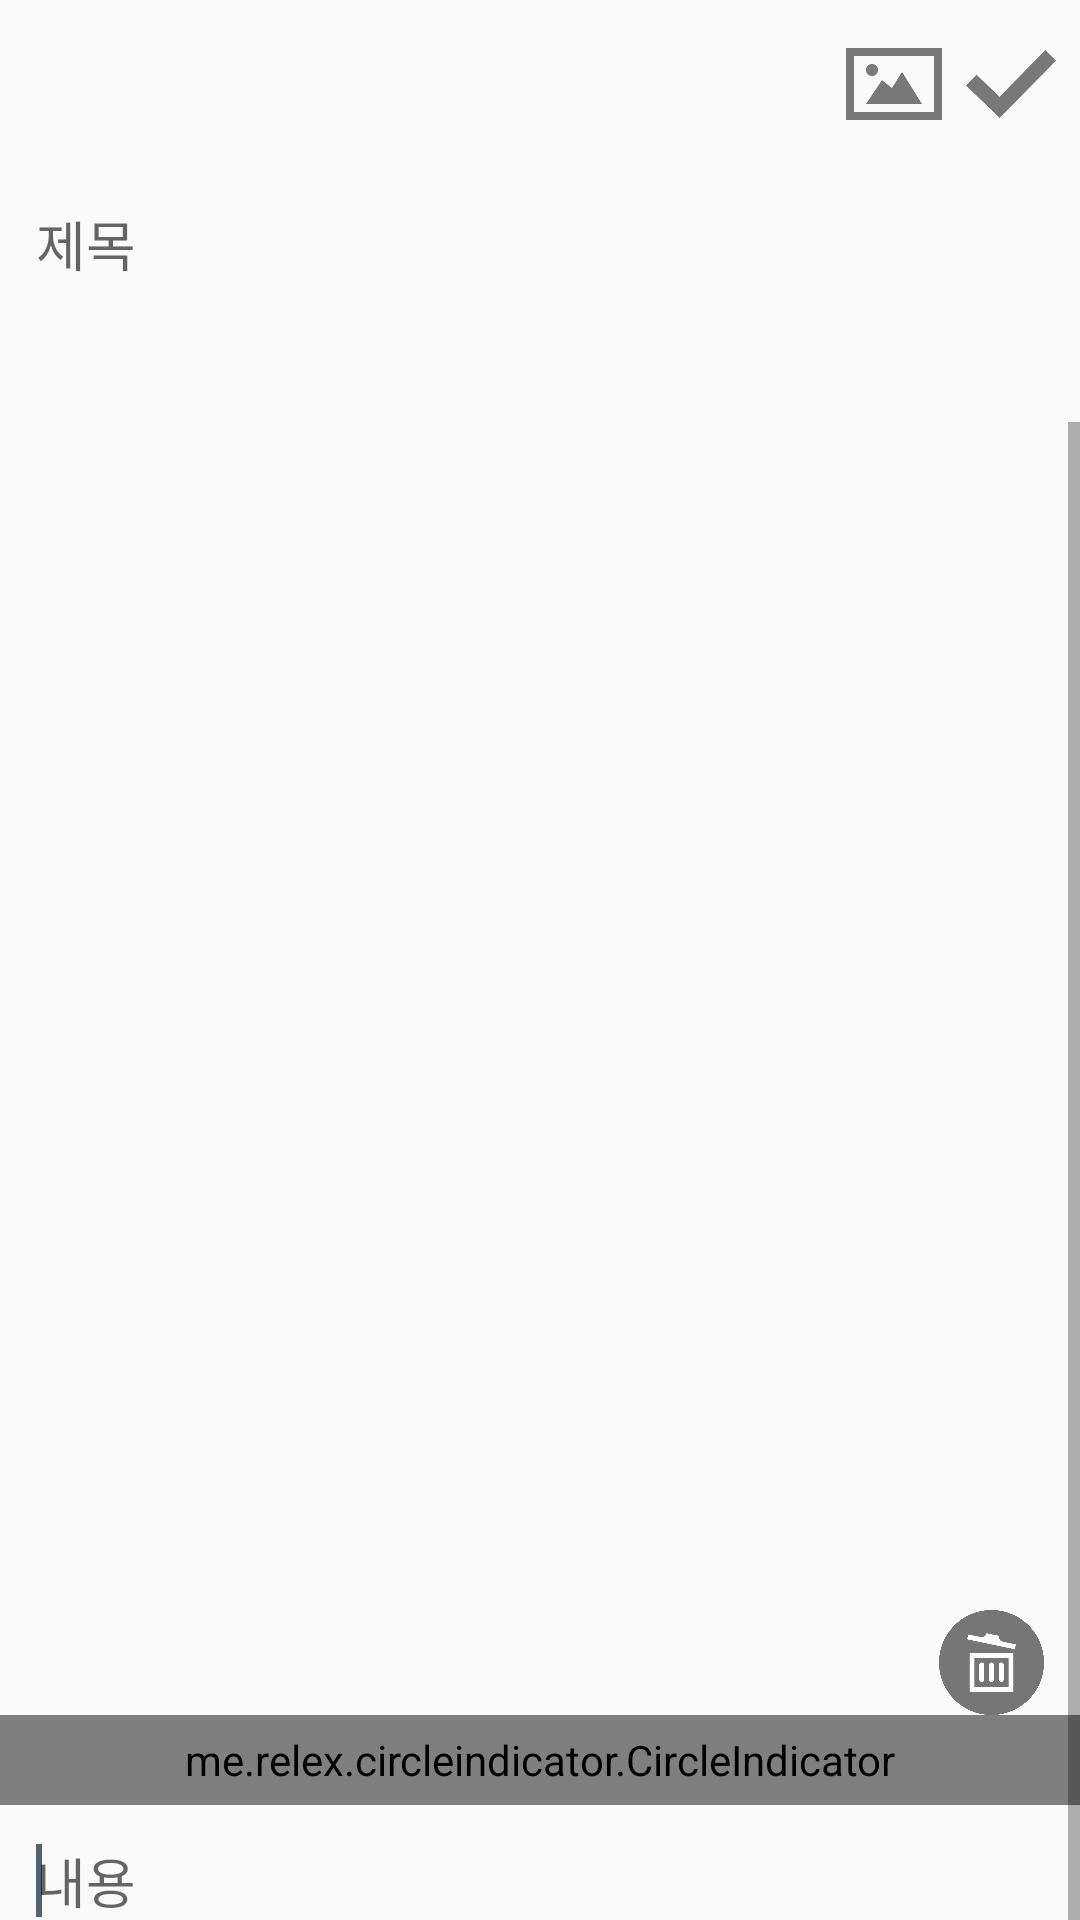

Icons on this 1080*1920 Android screen, each with the point to tap as point (x, y):
done: point (1011, 84)
gallery: point (894, 84)
trash can: point (991, 1662)
